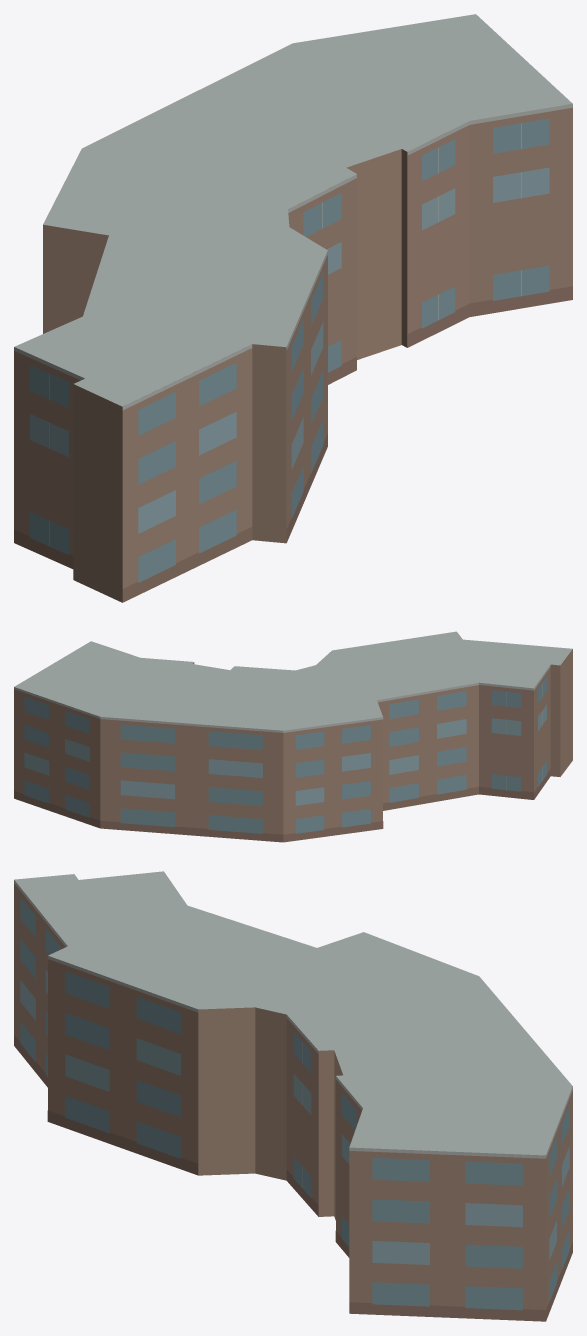
Rendered from survey-upis-33020318.glb.
The picture shows the model from 3 angles, top to bottom: view 1: azimuth 30°, elevation 25°; view 2: azimuth 150°, elevation 25°; view 3: azimuth 270°, elevation 25°; orthographic projection. The views are drawn at different scales.
Parts seen in each view (by area): view 1: survey-upis-33020318.tmp; view 2: survey-upis-33020318.tmp; view 3: survey-upis-33020318.tmp.
Part boxes in pixels (<box>): survey-upis-33020318.tmp: <box>14,14,572,602</box>; survey-upis-33020318.tmp: <box>14,631,572,842</box>; survey-upis-33020318.tmp: <box>14,871,572,1321</box>.
Bounding box in the file's own units: 44.75 × 12.2 × 37.2.
